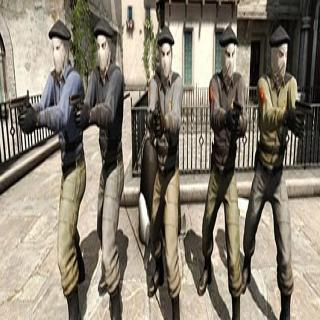T-Body: (35, 19, 85, 317), (244, 24, 294, 319), (202, 24, 245, 319), (86, 20, 124, 319), (145, 25, 180, 318)
T-Head: (215, 24, 239, 84), (48, 19, 71, 79), (156, 24, 176, 86), (92, 18, 114, 74), (268, 24, 288, 79)
